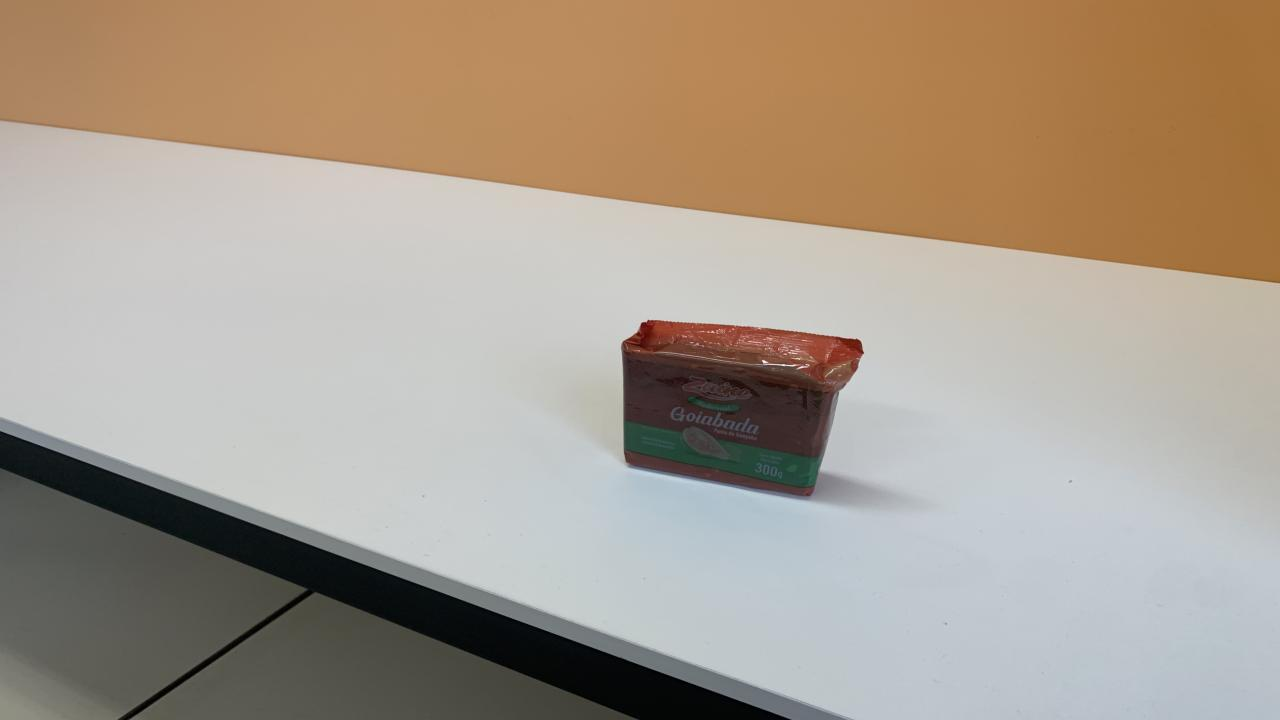Guava-Snacks: (622, 321, 862, 495)
